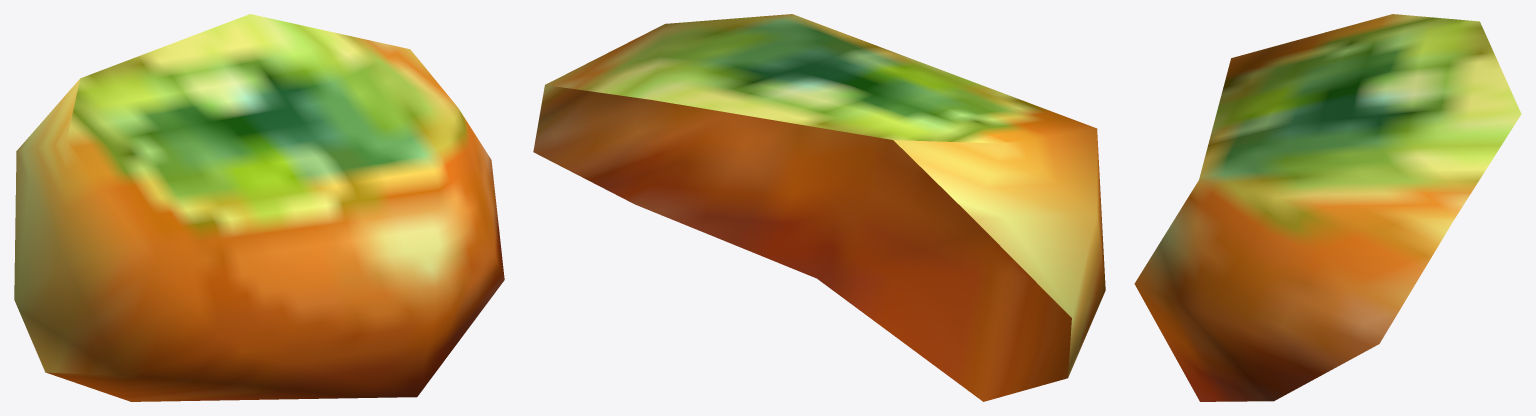
File: fg_persimmon_out.dae
3 views of the same model, side by side, from view 1: azimuth 30°, elevation 25°; view 2: azimuth 150°, elevation 25°; view 3: azimuth 270°, elevation 25° (orthographic). The views are drawn at different scales.
Visible parts, largest first — view 1: fg_persimmon_out; view 2: fg_persimmon_out; view 3: fg_persimmon_out.
Boxes of the visible parts, <box> form: fg_persimmon_out: <box>14,14,504,401</box>; fg_persimmon_out: <box>533,14,1105,401</box>; fg_persimmon_out: <box>1134,14,1521,401</box>.
Bounding box in the file's own units: 16.15 × 8.99 × 11.04.
1 material, 1 textured.
